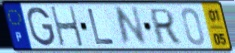0: (181, 7, 206, 47)
G: (26, 6, 57, 48)
H: (49, 5, 86, 48)
L: (86, 7, 117, 46)
N: (113, 5, 149, 48)
R: (149, 8, 181, 47)
